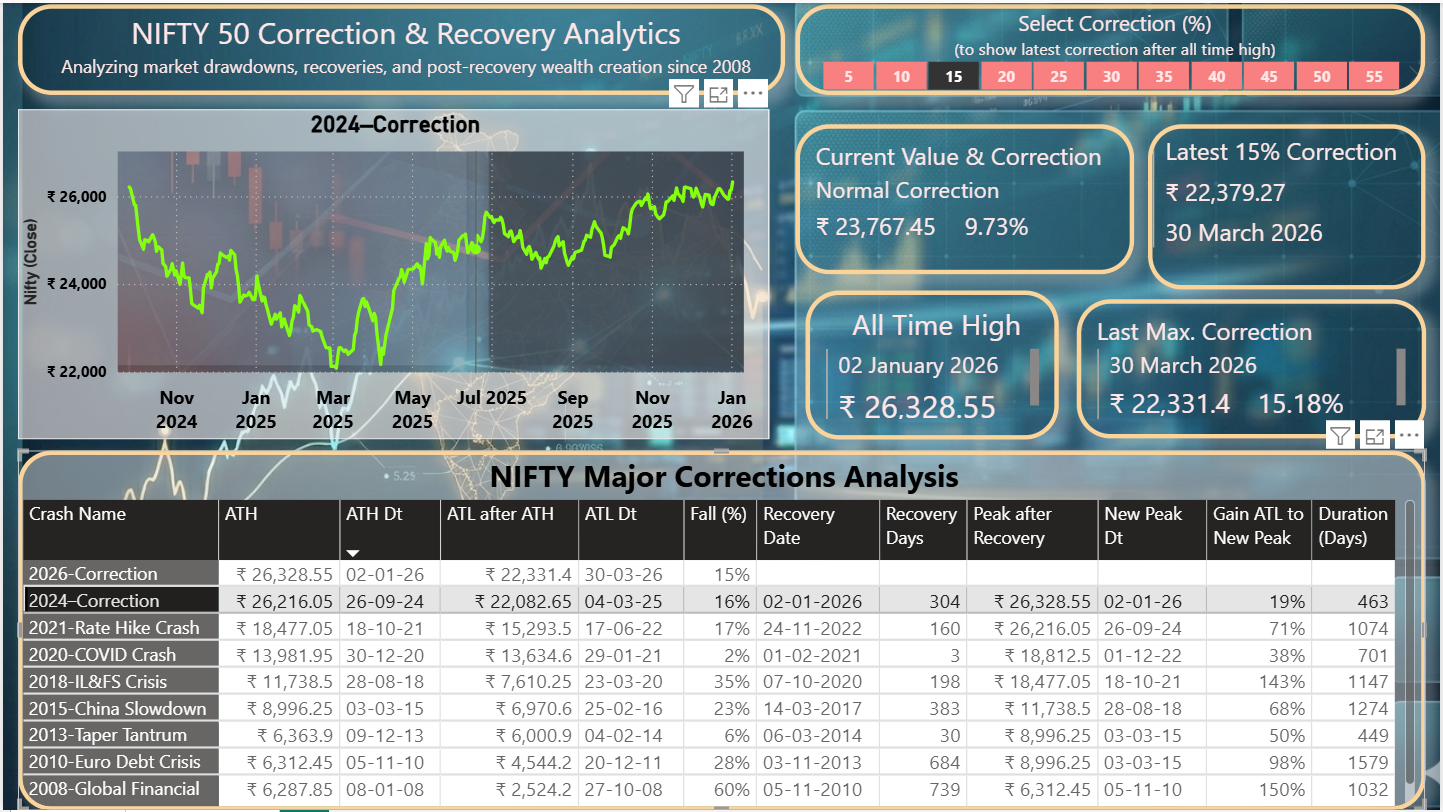

The dashboard page shown, as its layout file describes it:
{"tool":"powerbi","page":{"name":"NIFTY_50 ","canvas":[1280,720],"ordinal":0},"visuals":[{"type":"multiRowCard","title":"All Time High","fields":{"Values":["Nifty.All Time High","Nifty.All Time High Dt"]},"box":[715.2,255.5,225.8,132.5],"z":0},{"type":"multiRowCard","title":"Last Max. Correction","fields":{"Values":["Nifty.Correction","Nifty.Correction Dt","Nifty.correction (%)"]},"box":[955.8,263.6,310.9,124.4],"z":1000},{"type":"multiRowCard","title":"Current Value & Correction","fields":{"Values":["Nifty.Current Value","Nifty.Current Correction","Nifty.Play Book"]},"box":[705.7,108.2,301.5,133.8],"z":2000},{"type":"slicer","title":"Select Correction (%)","fields":{"Values":["Fall From ATH.Fall Percentage"]},"box":[705.8,1.2,561,80.8],"z":3000},{"type":"multiRowCard","fields":{"Values":["Fall From ATH.Header","Nifty.Fall Value","Nifty.Date of Fall"]},"box":[1019.4,108.2,247.4,147.4],"z":4000},{"type":"pivotTable","title":"NIFTY Major Corrections Analysis","fields":{"Rows":["Crash History.Crash Name"],"Values":["Nifty.ATH","Nifty.ATH Dt","Nifty.ATL after ATH","Nifty.ATL Dt","Nifty.Max fall","Nifty.Recovery Date","Nifty.Recovery Days","Nifty.Peak after Recovery","Nifty.New Peak Dt","Nifty.Gain ATL to New Peak","Nifty.Duration"]},"box":[13.5,398.8,1253.2,320.4],"z":5000},{"type":"card","title":"NIFTY 50 Correction & Recovery Analytics","fields":{"Values":["Crash History.Title"]},"box":[13.4,1.3,683.2,80.7],"z":6000},{"type":"lineChart","title":"Nifty (Close) by Date","fields":{"Y":["Sum(Nifty.Close)"],"Category":["Nifty.Date"]},"box":[13.5,94.6,669.2,293.4],"z":7000}]}

Visuals, with their boxes in screenshot pixels (x1, y1, x2, y2), scaled from the page's 1280x720 canvas onto the 1443x812 screenshot:
"All Time High" multiRowCard: <box>806,288,1061,438</box>
"Last Max. Correction" multiRowCard: <box>1078,297,1428,438</box>
"Current Value & Correction" multiRowCard: <box>796,122,1135,273</box>
"Select Correction (%)" slicer: <box>796,1,1428,92</box>
multiRowCard - Fall From ATH.Header x Nifty.Fall Value: <box>1149,122,1428,288</box>
"NIFTY Major Corrections Analysis" pivotTable: <box>15,450,1428,811</box>
"NIFTY 50 Correction & Recovery Analytics" card: <box>15,1,785,92</box>
"Nifty (Close) by Date" lineChart: <box>15,107,770,438</box>
